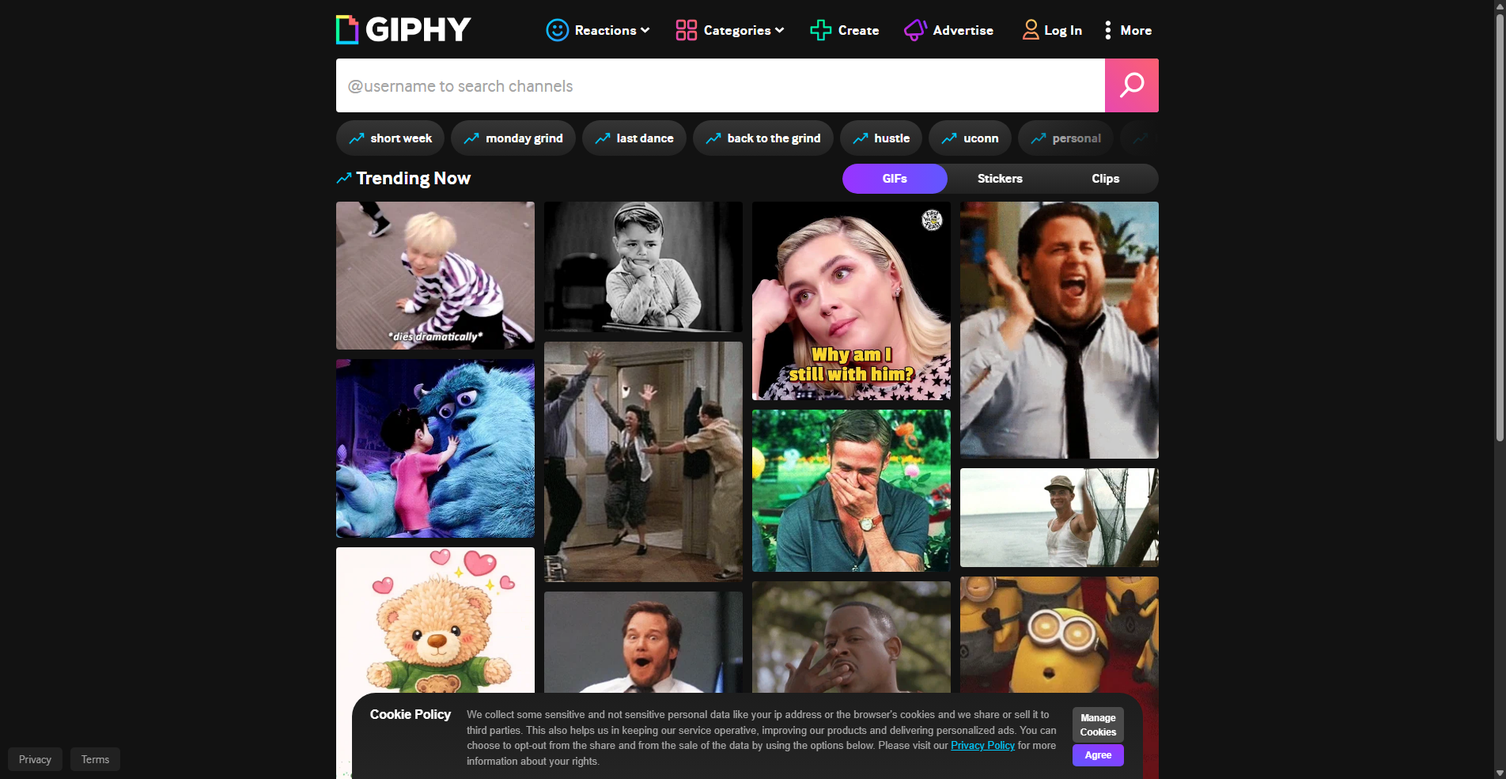button: (1073, 707, 1124, 766), (1073, 707, 1124, 743), (1073, 744, 1124, 766)
input: (336, 76, 1105, 95)
link: (960, 202, 1158, 459), (544, 342, 742, 582), (336, 547, 534, 779), (960, 577, 1158, 779), (752, 202, 950, 400), (752, 581, 950, 779), (336, 359, 534, 538), (752, 410, 950, 572), (544, 592, 742, 751), (336, 202, 534, 350), (544, 202, 742, 332), (960, 468, 1158, 567), (336, 6, 482, 48), (693, 120, 833, 156), (451, 120, 576, 156), (336, 120, 445, 156), (544, 760, 742, 779), (582, 120, 686, 156), (1217, 120, 1321, 156), (1018, 120, 1114, 156), (1120, 120, 1211, 156), (947, 164, 1053, 194), (1328, 120, 1416, 156), (842, 164, 947, 194), (1053, 164, 1158, 194), (1422, 120, 1506, 156), (840, 120, 923, 156), (929, 120, 1011, 156), (8, 747, 62, 771), (70, 747, 120, 771), (951, 739, 1015, 751)
